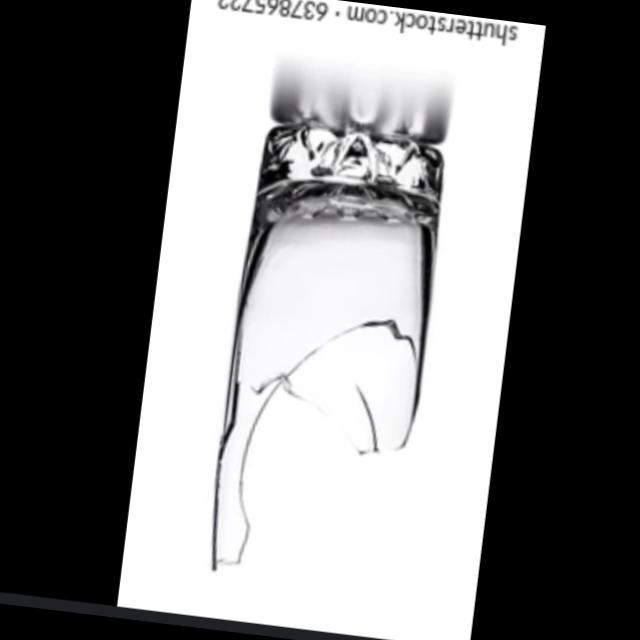PecahanKaca: (202, 117, 454, 596)
